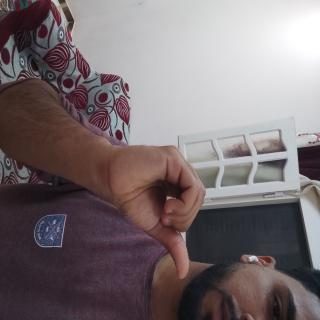WAW: (102, 149, 213, 293)
